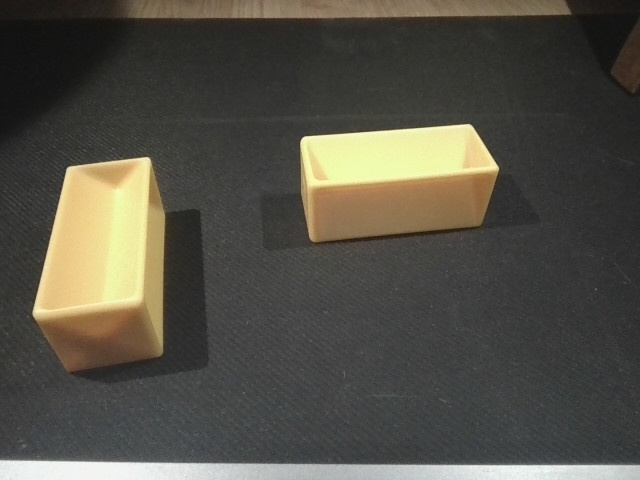YellowSample: (32, 156, 171, 373), (295, 120, 502, 245)
